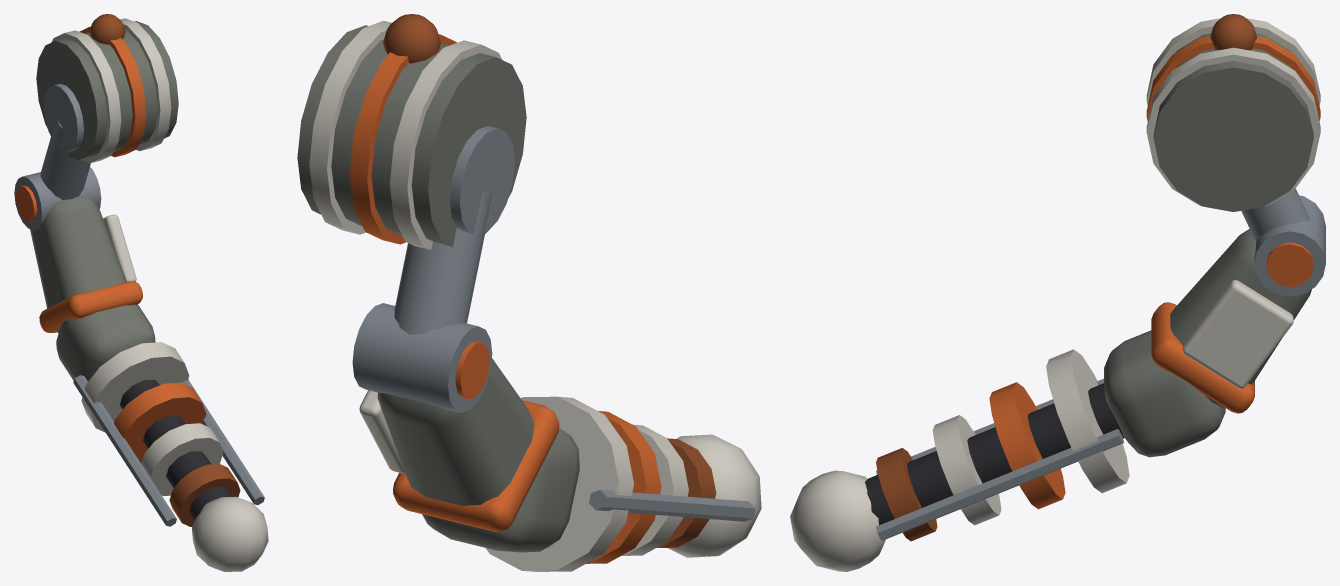
The model's file is ar_pulse.glb.
The picture shows the model from 3 angles, left to right: view 1: azimuth 30°, elevation 25°; view 2: azimuth 150°, elevation 25°; view 3: azimuth 270°, elevation 25°; orthographic projection. The views are drawn at different scales.
Parts seen in each view (by area): view 1: ar_pulse; view 2: ar_pulse; view 3: ar_pulse.
Part boxes in pixels (x1=…): ar_pulse: x1=14, y1=14, x2=268, y2=571; ar_pulse: x1=297, y1=14, x2=761, y2=571; ar_pulse: x1=790, y1=14, x2=1325, y2=571.
Size of the model in its own units: 0.1618 by 0.5749 by 0.4906.
